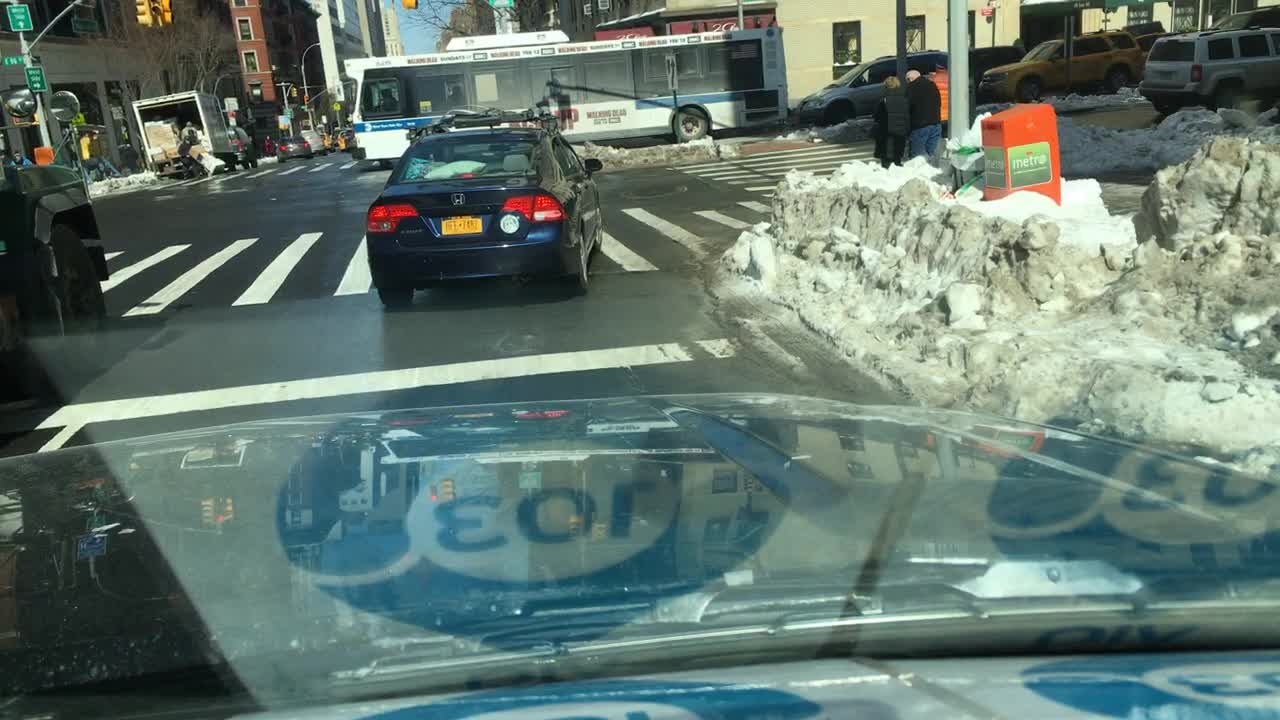bus: (345, 46, 797, 153)
car: (368, 130, 606, 311)
person: (870, 69, 913, 176), (901, 65, 947, 163)
truck: (127, 91, 255, 178)
